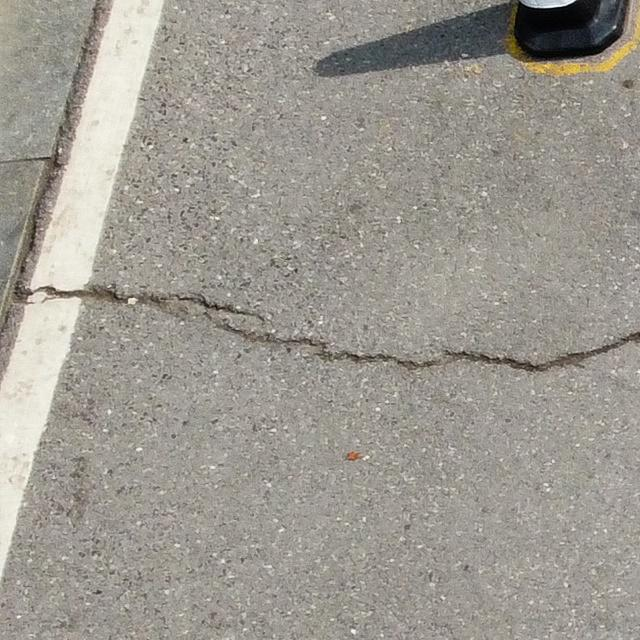TransverseCrack: (15, 284, 640, 372)
